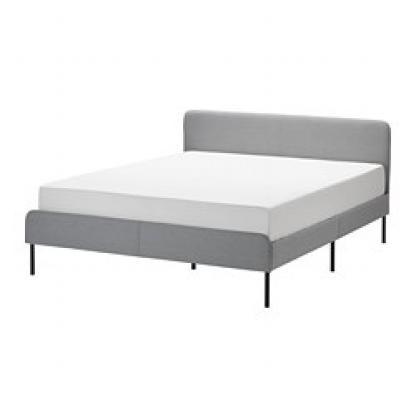Bed: (15, 80, 398, 336)
